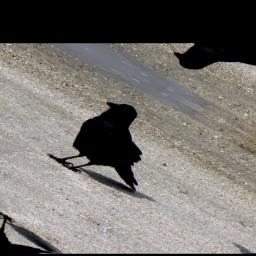Crow: (35, 94, 203, 201)
